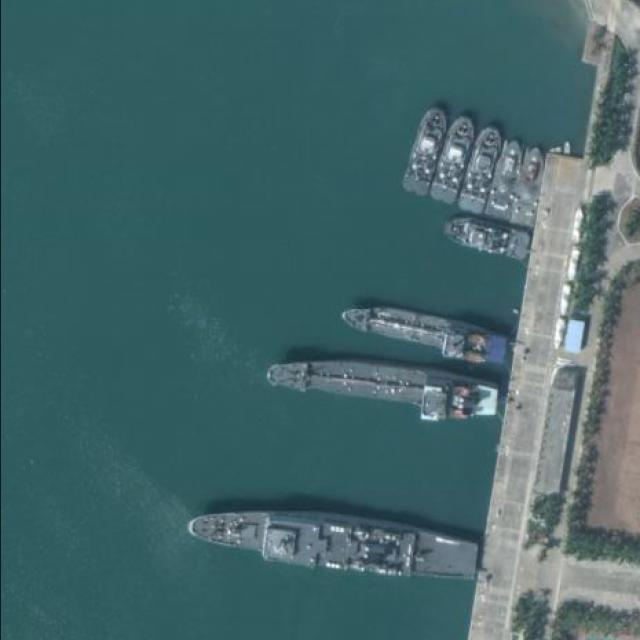Landing: (182, 493, 482, 592), (266, 351, 506, 423), (337, 296, 513, 363)
Other Warship: (397, 101, 454, 199), (426, 111, 482, 209), (456, 118, 509, 215), (440, 210, 531, 262), (484, 138, 527, 222), (508, 144, 548, 228)
